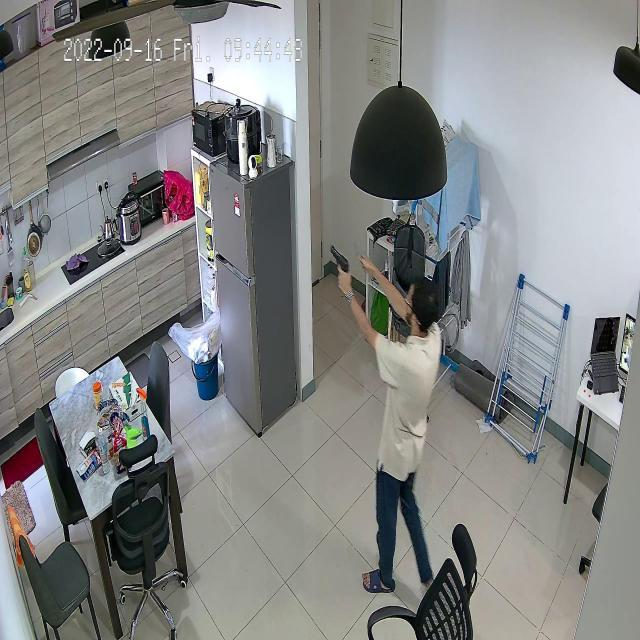Gun: (318, 242, 350, 288)
Knife: (348, 223, 368, 284)
